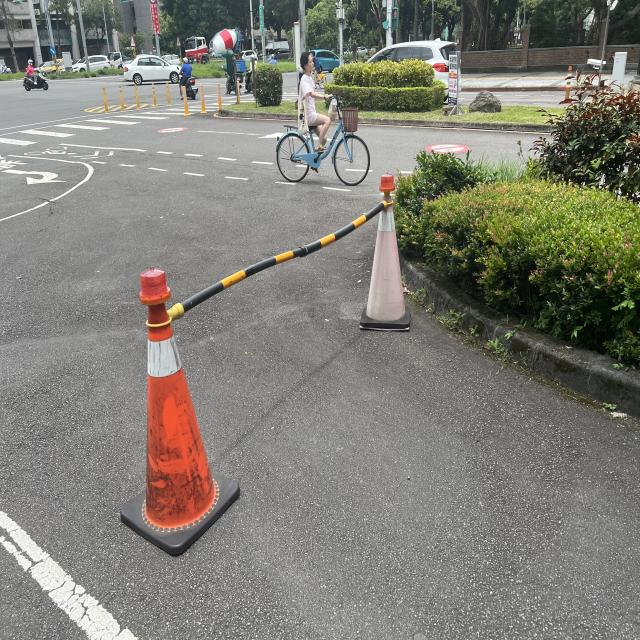bicycle: (271, 98, 366, 184)
cone: (124, 272, 226, 536), (368, 179, 407, 324)
